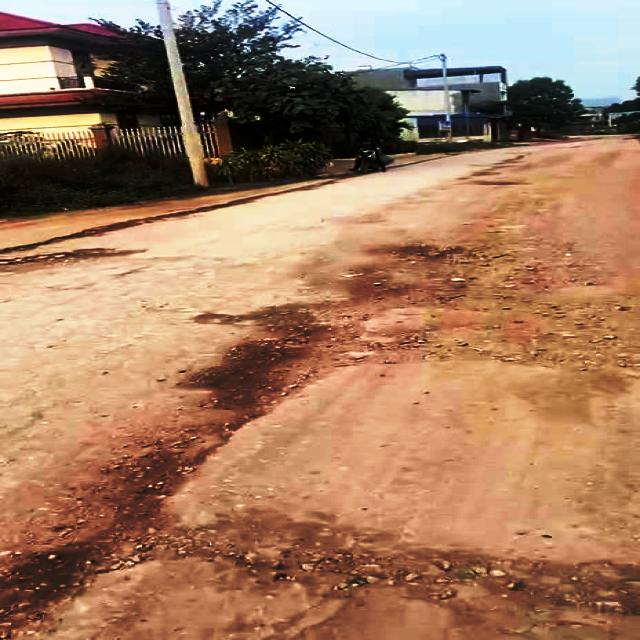pothole: (30, 504, 640, 638), (309, 314, 516, 374), (0, 243, 135, 267)
